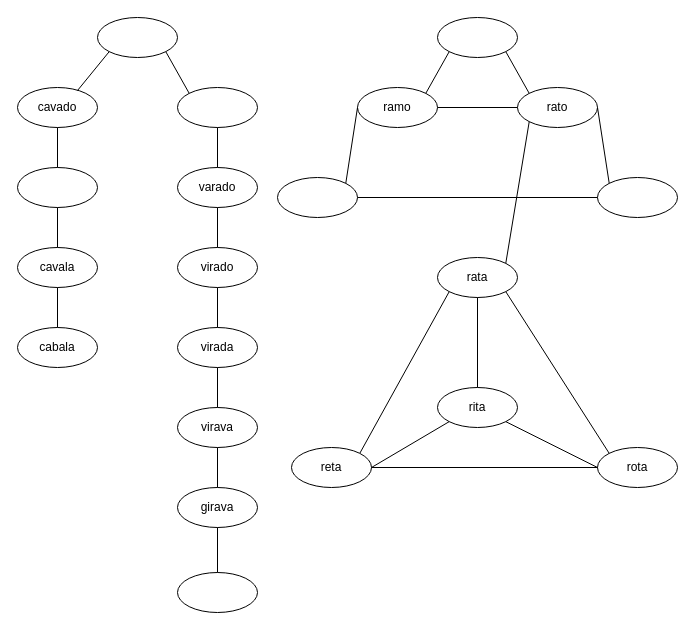
This 695x630 diagram has some shape labels left out. Here are the shapes that lost their labels. From the top down, the centre of each, then its label:
At (x=137, y=37): "caiado".
At (x=477, y=37): "ralo".
At (x=217, y=107): "vaiado".
At (x=57, y=187): "cavalo".
At (x=317, y=197): "remo".
At (x=637, y=197): "reto".
At (x=217, y=592): "girafa".
